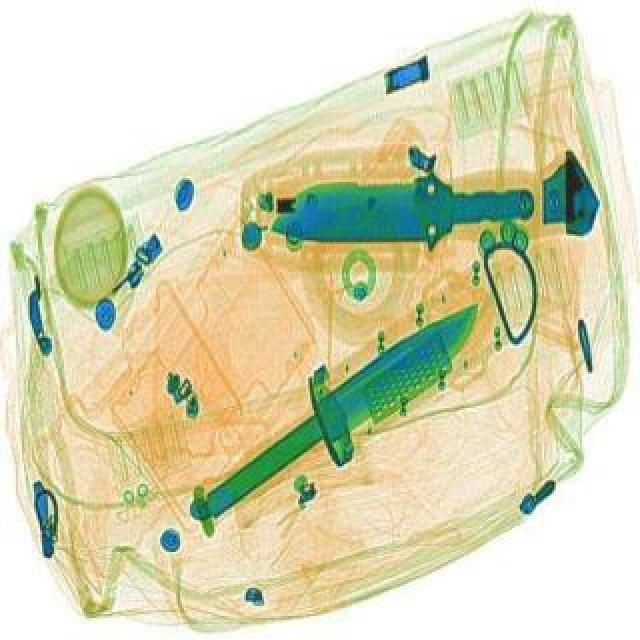knife: (188, 288, 496, 530), (268, 176, 534, 240)
